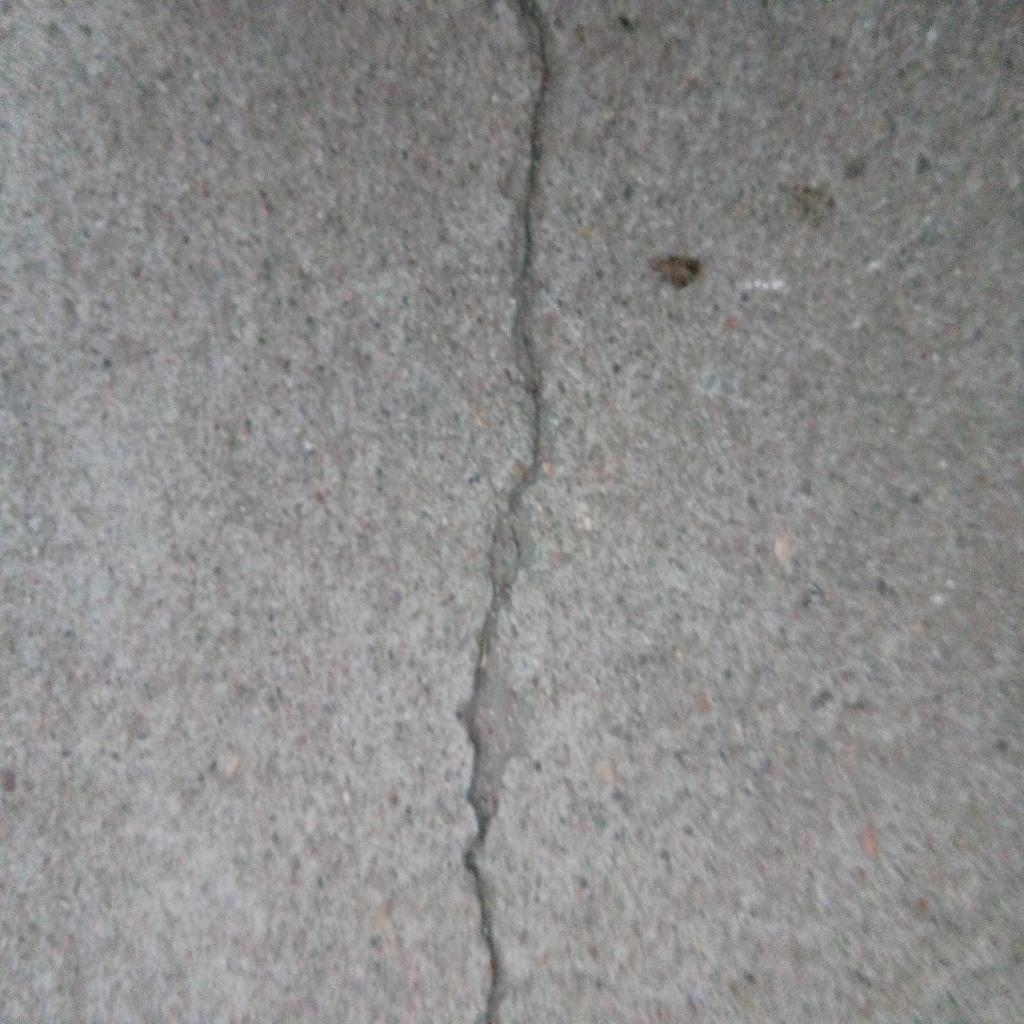Crack: (456, 1, 555, 1024)
